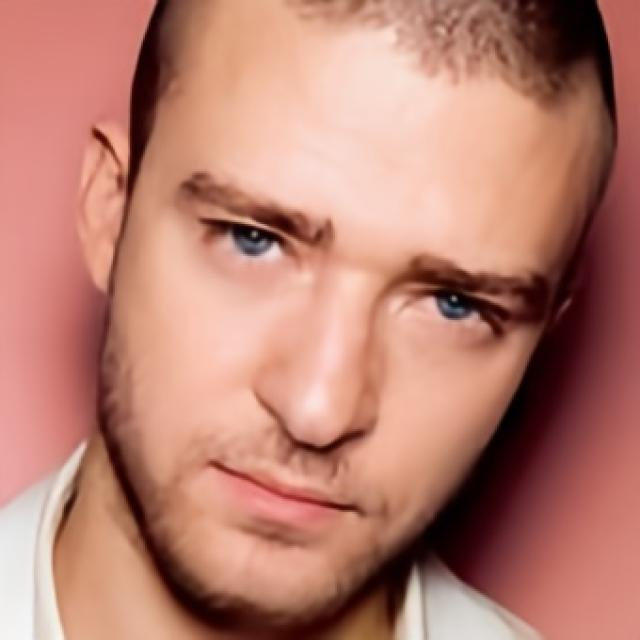anger: (114, 24, 556, 616)
